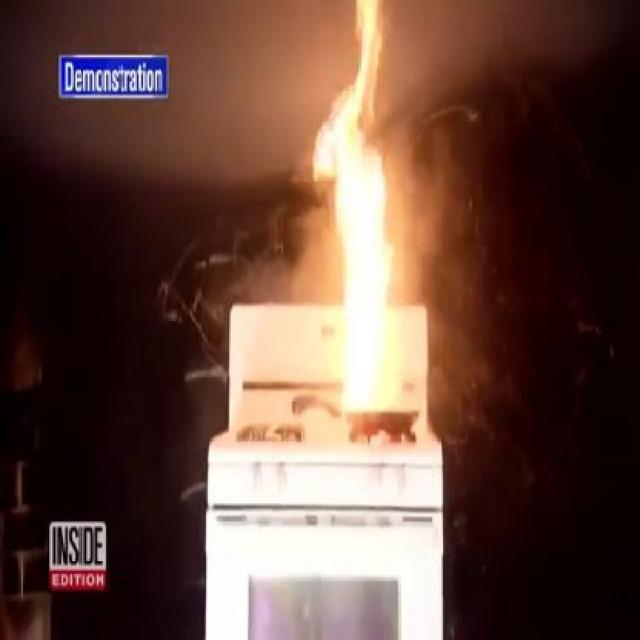fire: (284, 12, 416, 363)
